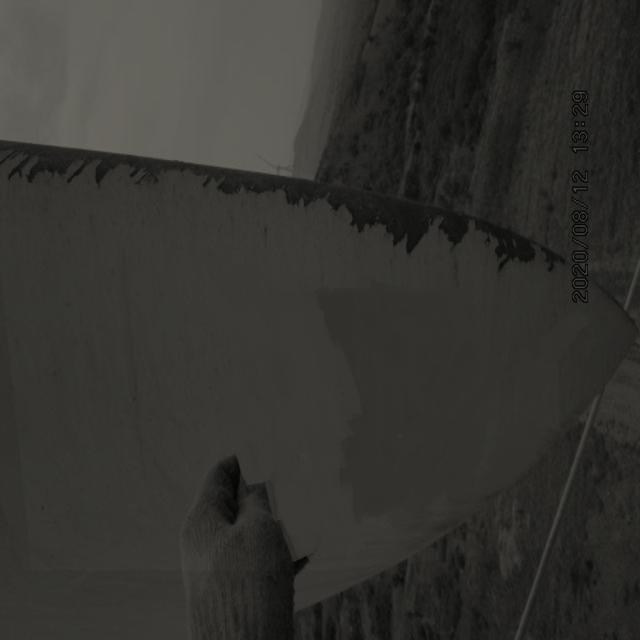corrosion: (380, 194, 570, 269), (2, 140, 227, 192), (231, 170, 376, 229)
